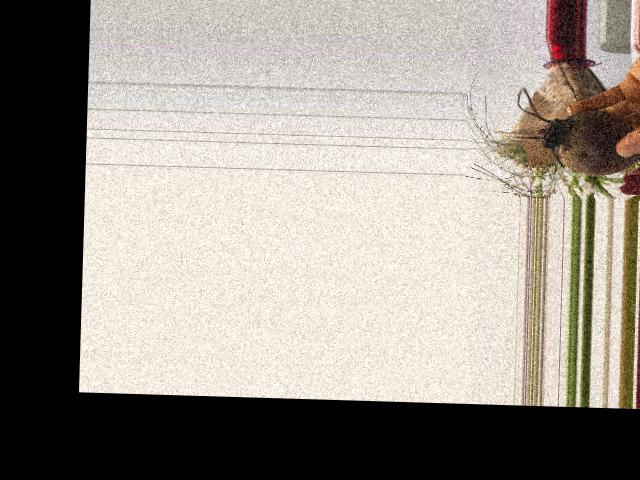beet: (514, 87, 640, 187)
